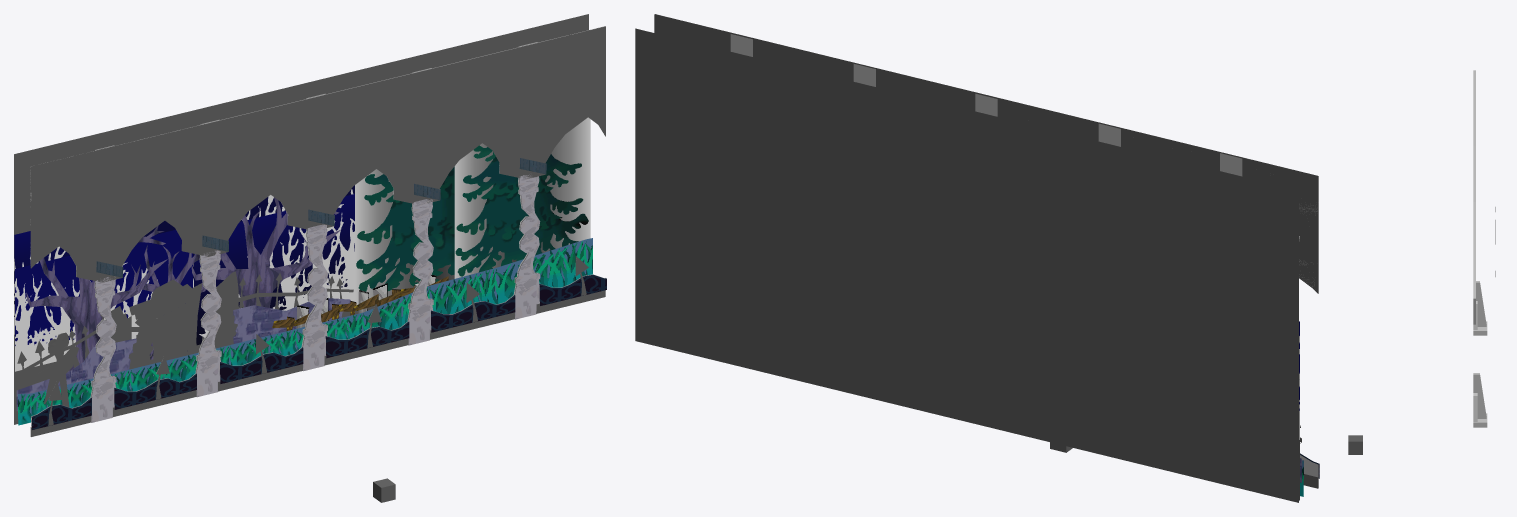
The model's file is stg_04_3_bake_split.dae.
The picture shows the model from 3 angles, left to right: view 1: azimuth 30°, elevation 25°; view 2: azimuth 150°, elevation 25°; view 3: azimuth 270°, elevation 25°; orthographic projection. The views are drawn at different scales.
Visible parts, largest first — view 1: ue_part1, pPlane364_q00099, polySurface995_q00158, pCylinder29_q00154, pCylinder29_q00154_VC, pCylinder29_q00156, mori_03_part1_VC, mori_04_part1_VC, polySurface995_q00158_VC, sita, polySurface998_q00131, polySurface1257 (+26 smaller); view 2: pPlane364_q00099, ue__part1, ue_part1; view 3: polySurface1250_q00068, pCube24_q00062, pCube24_q00059, pCube25.
Boxes of the visible parts, <box> form: ue_part1: <box>31,26,605,282</box>; pPlane364_q00099: <box>14,14,588,424</box>; polySurface995_q00158: <box>18,241,592,425</box>; pCylinder29_q00154: <box>455,145,588,276</box>; pCylinder29_q00154_VC: <box>454,117,590,278</box>; pCylinder29_q00156: <box>356,166,454,291</box>; mori_03_part1_VC: <box>15,230,192,345</box>; mori_04_part1_VC: <box>194,194,354,345</box>; polySurface995_q00158_VC: <box>18,238,592,414</box>; sita: <box>31,290,605,436</box>; polySurface998_q00131: <box>135,279,202,363</box>; polySurface1257: <box>191,197,341,307</box>; pPlane364_q00099: <box>635,28,1298,502</box>; ue__part1: <box>654,14,1318,293</box>; ue_part1: <box>655,14,1318,293</box>; polySurface1250_q00068: <box>1473,70,1475,324</box>; pCube24_q00062: <box>1473,373,1486,418</box>; pCube24_q00059: <box>1476,281,1486,326</box>; pCube25: <box>1348,435,1362,454</box>.
Bounding box in the file's own units: 40.02 × 23.5 × 10.5.
